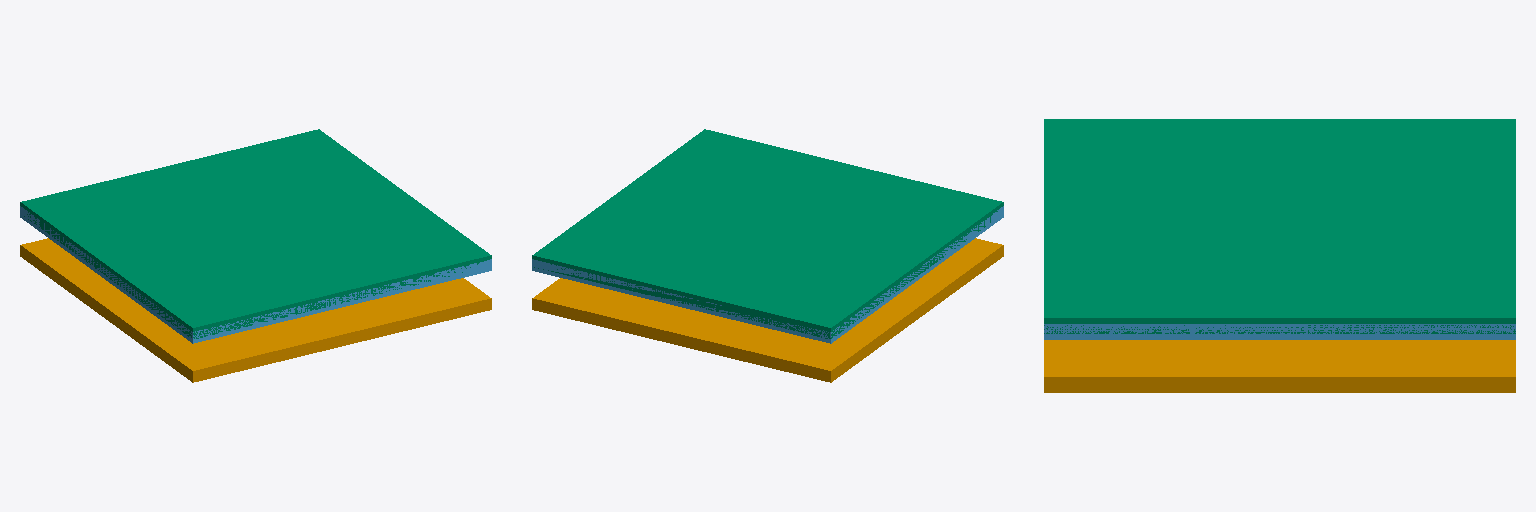
URDF robot description (new_wheelchair):
<?xml version="1.0" ?>
<!-- =================================================================================== -->
<!-- |    This document was autogenerated by xacro from new_wheelchair.urdf.xacro      | -->
<!-- |    EDITING THIS FILE BY HAND IS NOT RECOMMENDED                                 | -->
<!-- =================================================================================== -->
<robot name="new_wheelchair">
  
  
  
  <link name="base_link">
      <inertial>
      <origin rpy="0 0 0" xyz="0 0 0"/>
      <mass value="0.1"/>
      <inertia ixx="0.0001" ixy="0.0" ixz="0.0" iyy="0.0001" iyz="0.0" izz="0.0001"/>
    </inertial>
    
       <collision>
      <origin xyz="0 0 0.015"/>
      <geometry>
        <box size="0.8 0.8 0.03"/>
      </geometry>
    </collision>
    <visual>
      <origin rpy="0 0 0" xyz="0 0 0.015"/>
      <geometry>
        <box size="0.8 0.8 0.03"/>
      </geometry>
    </visual>
  </link>
   
   
    <joint name="footprint_joint" type="fixed">
    <origin rpy="0 0 0" xyz="0 0 0.1"/>
    <parent link="base_link"/>
    <child link="base_footprint"/>
  </joint>
  
  <gazebo reference="footprint_joint">
  <disableFixedJointLumping>true</disableFixedJointLumping> 
  <preserveFixedJoint>true</preserveFixedJoint>
</gazebo>
 
 
  <link name="base_footprint">
   <collision>
      <origin xyz="0 0 0.015"/>
      <geometry>
        <box size="0.8 0.8 0.03"/>
      </geometry>
    </collision>
    <visual>
      <origin rpy="0 0 0" xyz="0 0 0.015"/>
      <geometry>
        <box size="0.8 0.8 0.03"/>
      </geometry>
    </visual>
  
    <inertial>
      <origin rpy="0 0 0" xyz="0 0 0"/>
      <mass value="0.1"/>
      <inertia ixx="0.0001" ixy="0.0" ixz="0.0" iyy="0.0001" iyz="0.0" izz="0.0001"/>
    </inertial>
  </link>


  <joint name="base_footprint_to_chassis_link" type="continuous">
    <parent link="base_footprint"/>
    <child link="chassis_link"/>
    <origin xyz="0 0 0.01"/>
  </joint>
  
  
  <link name="chassis_link">
    <collision>
      <origin xyz="0 0 0.015"/>
      <geometry>
        <box size="0.8 0.8 0.03"/>
      </geometry>
    </collision>
    <visual>
      <origin rpy="0 0 0" xyz="0 0 0.015"/>
      <geometry>
        <box size="0.8 0.8 0.03"/>
      </geometry>
    </visual>
    <inertial>
      <origin xyz="0 0 0.015"/>
      <mass value="20"/>
      <inertia ixx="1.068166666666667" ixy="0.0" ixz="0.0" iyy="1.068166666666667" iyz="0.0" izz="2.1333333333333337"/>
    </inertial>
  </link>
  
</robot>

--- Render facts (derived) ---
The picture shows the robot from 3 angles, left to right: view 1: azimuth 30°, elevation 25°; view 2: azimuth 150°, elevation 25°; view 3: azimuth 270°, elevation 25°; orthographic projection.
Robot: new_wheelchair — 3 links, 2 joints (1 continuous, 1 fixed); root link base_link; default pose: every joint at zero.
Visible links, largest first — view 1: chassis_link, base_link, base_footprint; view 2: chassis_link, base_link, base_footprint; view 3: chassis_link, base_link, base_footprint.
Boxes of the visible links, left/top/right/bottom form: chassis_link: left=20, top=129, right=491, bottom=338; base_link: left=20, top=238, right=491, bottom=382; base_footprint: left=20, top=206, right=491, bottom=343; chassis_link: left=532, top=129, right=1003, bottom=338; base_link: left=532, top=238, right=1003, bottom=382; base_footprint: left=532, top=206, right=1003, bottom=343; chassis_link: left=1044, top=119, right=1515, bottom=333; base_link: left=1044, top=340, right=1515, bottom=392; base_footprint: left=1044, top=324, right=1515, bottom=339.
Size in the robot's own frame: 0.8 by 0.8 by 0.14 metres.
Geometry: primitives only (box / cylinder / sphere), no mesh files.